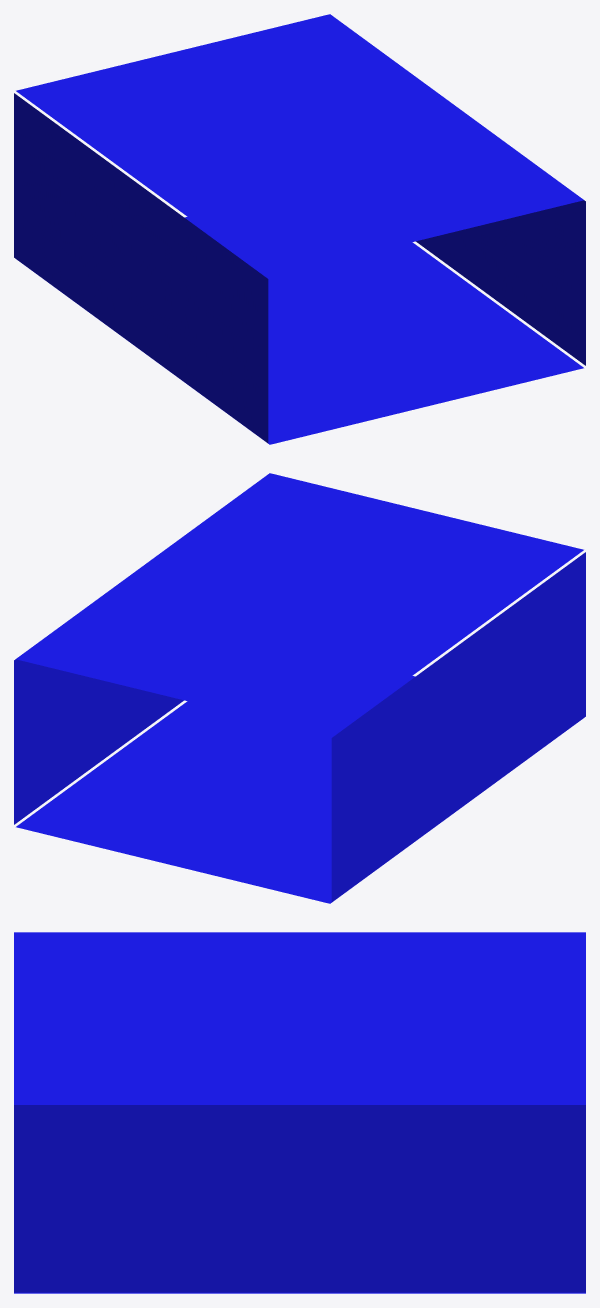
The model's file is erasercover.FBX.
3 renders of one model, top to bottom at view 1: azimuth 30°, elevation 25°; view 2: azimuth 150°, elevation 25°; view 3: azimuth 270°, elevation 25°, orthographic. The views are drawn at different scales.
Visible parts, largest first — view 1: Plane001, Plane004, Plane002, Plane003; view 2: Plane001, Plane004, Plane002, Plane003; view 3: Plane003, Plane001, Plane004, Plane002.
Part boxes in pixels (x1,y1,x2,y2): Plane001: (16, 14, 583, 276); Plane004: (14, 93, 268, 443); Plane002: (22, 217, 583, 444); Plane003: (416, 200, 585, 365); Plane001: (16, 473, 583, 735); Plane004: (331, 552, 585, 902); Plane002: (16, 676, 577, 903); Plane003: (14, 659, 183, 824); Plane003: (14, 1107, 585, 1292); Plane001: (14, 932, 585, 1104); Plane004: (14, 1105, 585, 1107); Plane002: (14, 1292, 585, 1293).
Bounding box in the file's own units: 2.02 × 1.02 × 2.8.
